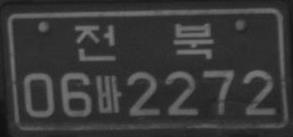0: (23, 72, 54, 117)
2: (242, 69, 277, 116), (164, 69, 198, 116), (126, 70, 160, 116)
6: (60, 71, 93, 118)
7: (202, 68, 234, 116)
바: (96, 75, 121, 113)
전북_D: (73, 22, 214, 61)
